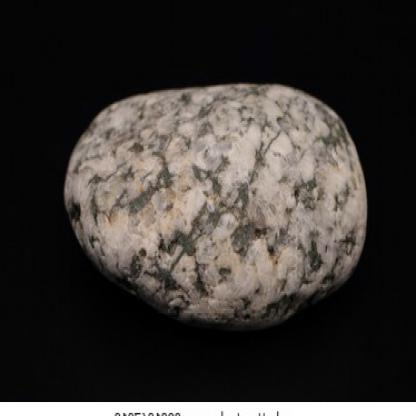Igneous_Diorite: (128, 87, 292, 309)
